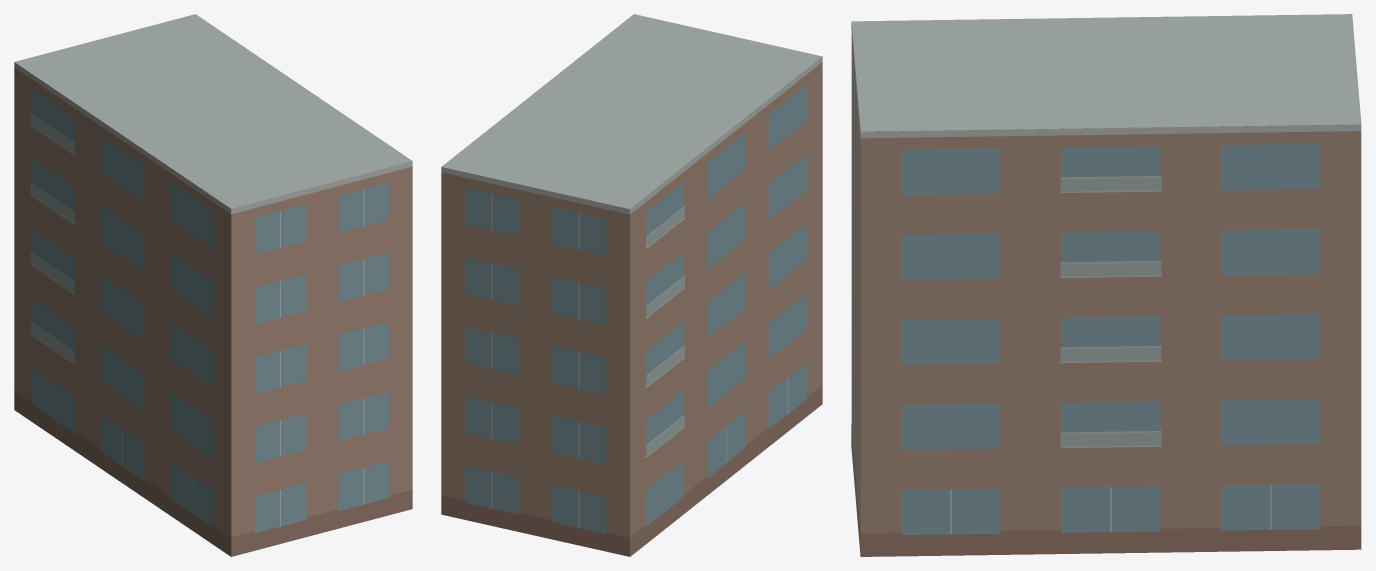
Rendered from survey-upis-33012390.glb.
3 views of the same model, side by side, from view 1: azimuth 30°, elevation 25°; view 2: azimuth 150°, elevation 25°; view 3: azimuth 270°, elevation 25° (orthographic). The views are drawn at different scales.
Parts seen in each view (by area): view 1: survey-upis-33012390.tmp; view 2: survey-upis-33012390.tmp; view 3: survey-upis-33012390.tmp.
Part boxes in pixels (bbox=[...]): survey-upis-33012390.tmp: bbox=[14, 14, 412, 556]; survey-upis-33012390.tmp: bbox=[441, 14, 822, 556]; survey-upis-33012390.tmp: bbox=[851, 14, 1361, 556].
Size of the model in its own units: 9.27 by 15.6 by 16.97.
